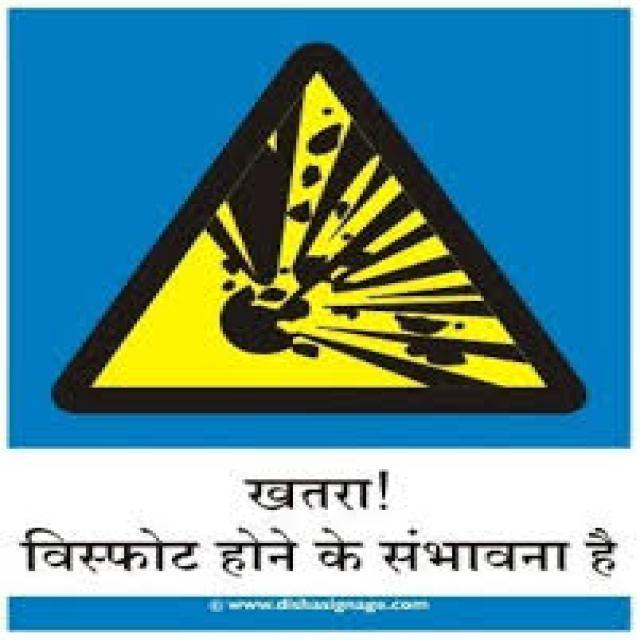explosion-risk: (40, 44, 603, 428)
